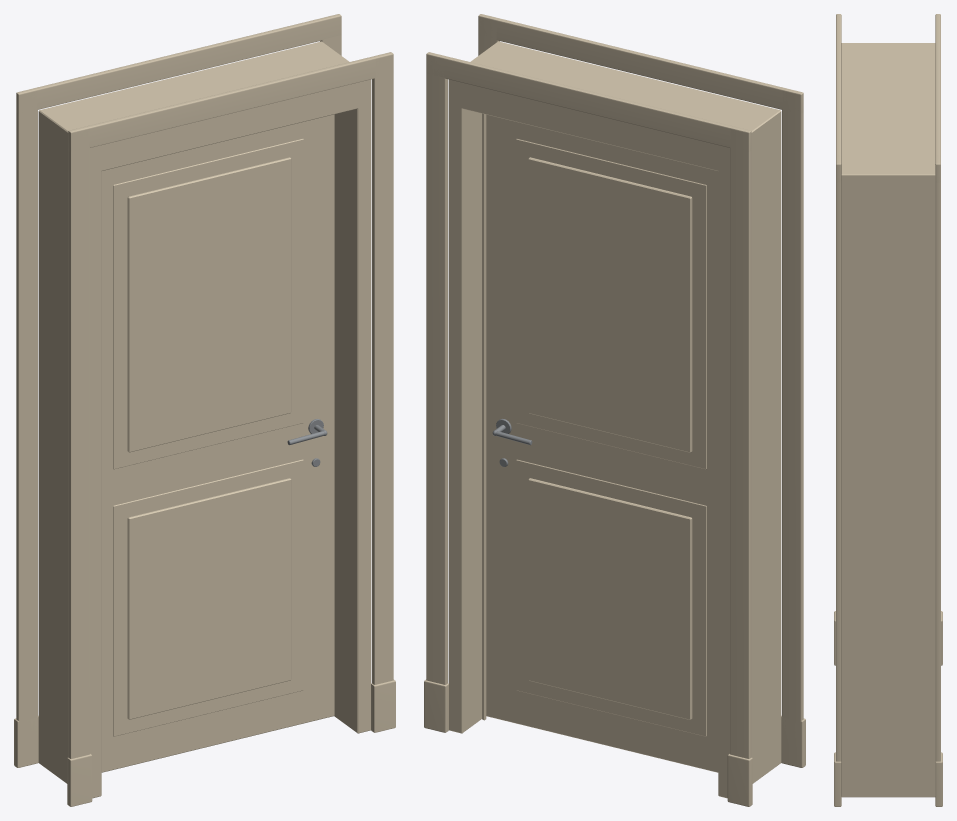
Rendered from prop_door_single_ivory_t30.glb.
The picture shows the model from 3 angles, left to right: view 1: azimuth 30°, elevation 25°; view 2: azimuth 150°, elevation 25°; view 3: azimuth 270°, elevation 25°; orthographic projection. The views are drawn at different scales.
Visible parts, largest first — view 1: LeafMesh, Frame; view 2: LeafMesh, Frame; view 3: Frame.
Part boxes in pixels (x1,y1,x2,y2): LeafMesh: [101, 114, 334, 772]; Frame: [14, 14, 395, 806]; LeafMesh: [486, 114, 718, 772]; Frame: [424, 14, 805, 806]; Frame: [834, 14, 942, 806].
Size of what is drawn, in the model's own units: 1.15 by 2.27 by 0.348.
